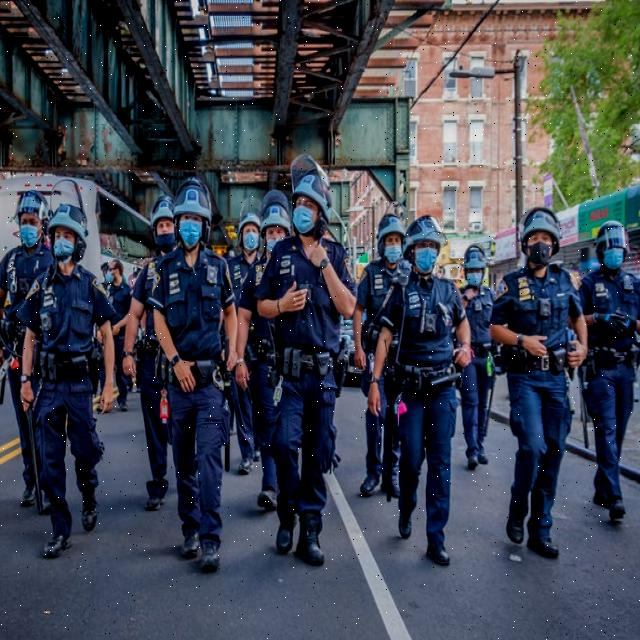police: (245, 147, 361, 582), (360, 198, 474, 592), (0, 178, 112, 576), (145, 157, 244, 600), (487, 198, 589, 577), (567, 197, 640, 553)
